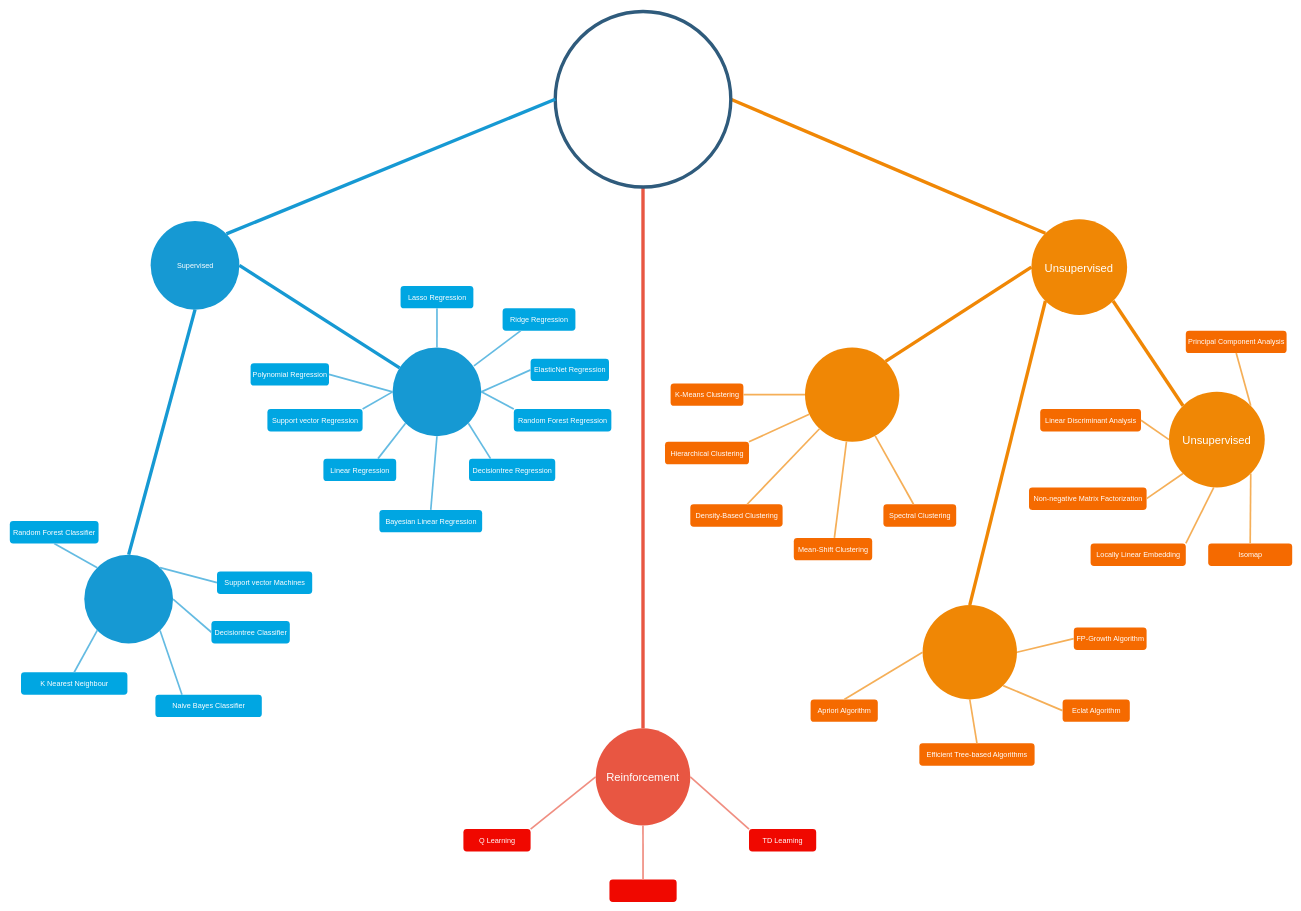
This 1301x911 diagram has some shape labels left out. Each missing label, with the centre of its shape:
Association Rule Learning: (969,652)
Classification: (128,598)
Clustering: (852,394)
Machine Learning: (642,99)
R Learning: (642,890)
Regression: (436,391)
